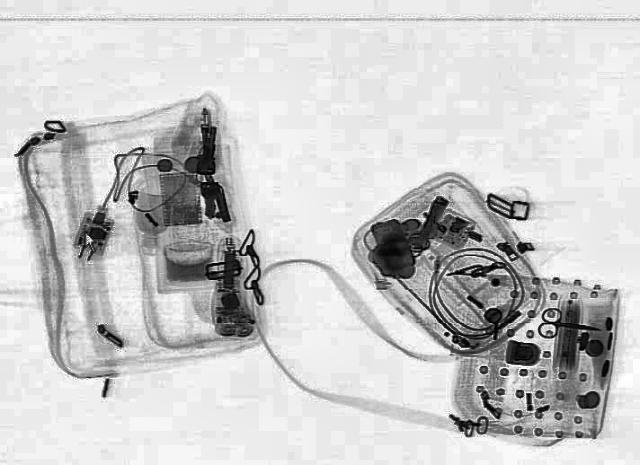Scissors: (536, 306, 606, 342)
